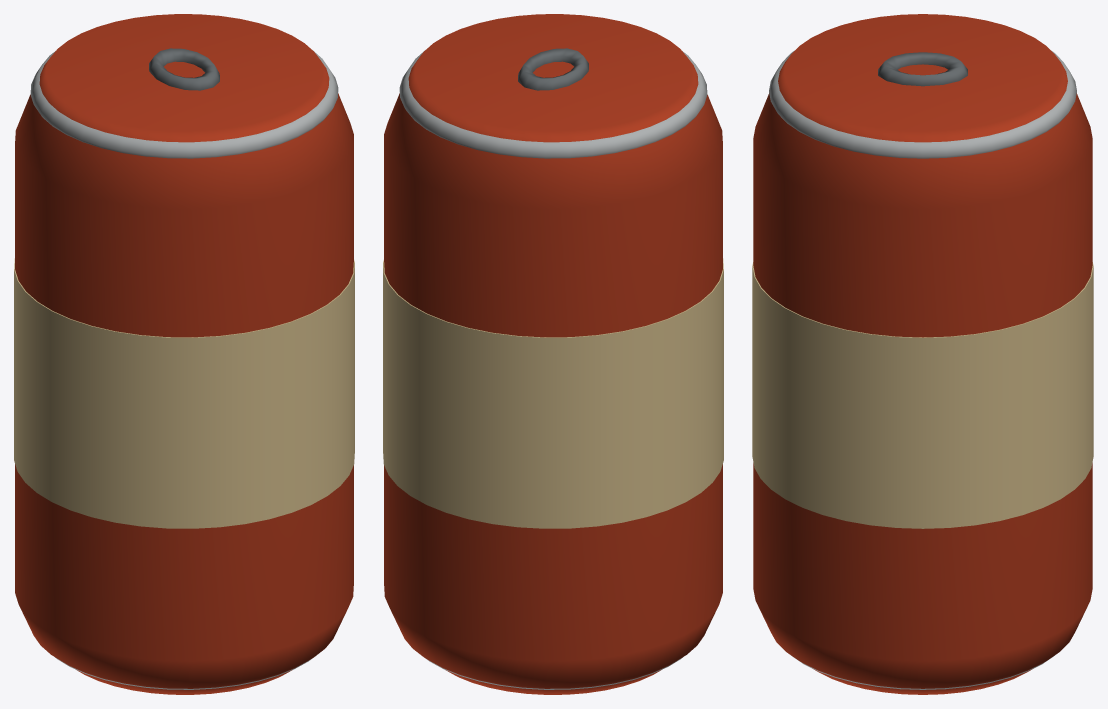
The model's file is soda.glb.
3 views of the same model, side by side, from view 1: azimuth 30°, elevation 25°; view 2: azimuth 150°, elevation 25°; view 3: azimuth 270°, elevation 25° (orthographic).
Visible parts, largest first — view 1: soda; view 2: soda; view 3: soda.
Part boxes in pixels (x1,y1,x2,y2): soda: (14,14,354,694); soda: (383,14,723,694); soda: (752,14,1093,694).
Bounding box in the file's own units: 0.0664 × 0.1239 × 0.0664.
